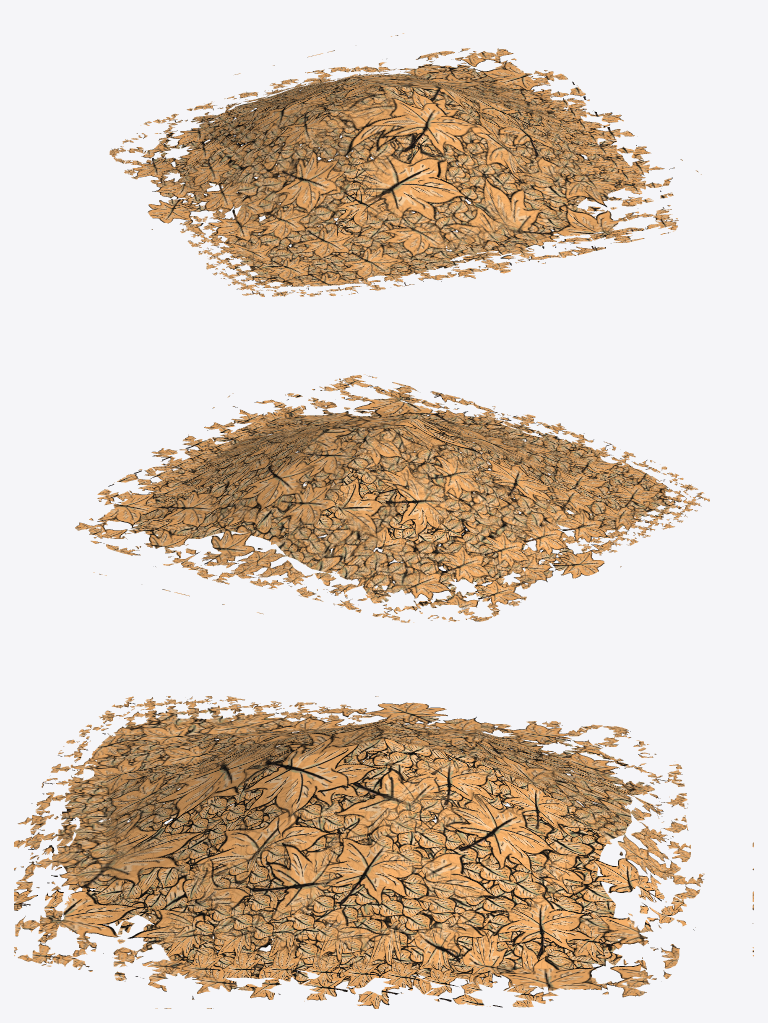
File: LeafPile.fbx
3 renders of one model, top to bottom at view 1: azimuth 30°, elevation 25°; view 2: azimuth 150°, elevation 25°; view 3: azimuth 270°, elevation 25°, orthographic. The views are drawn at different scales.
Visible parts, largest first — view 1: Plane; view 2: Plane; view 3: Plane.
Part boxes in pixels (box(x1,y1,x2,y2)): Plane: box(109, 33, 701, 296); Plane: box(75, 374, 709, 622); Plane: box(14, 696, 753, 1008).
Bounding box in the file's own units: 365 × 62.09 × 365.
